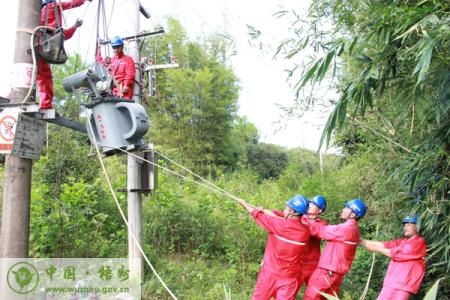blue: (283, 195, 308, 222), (341, 198, 367, 223), (402, 214, 423, 239), (306, 195, 326, 220), (110, 35, 125, 54)
